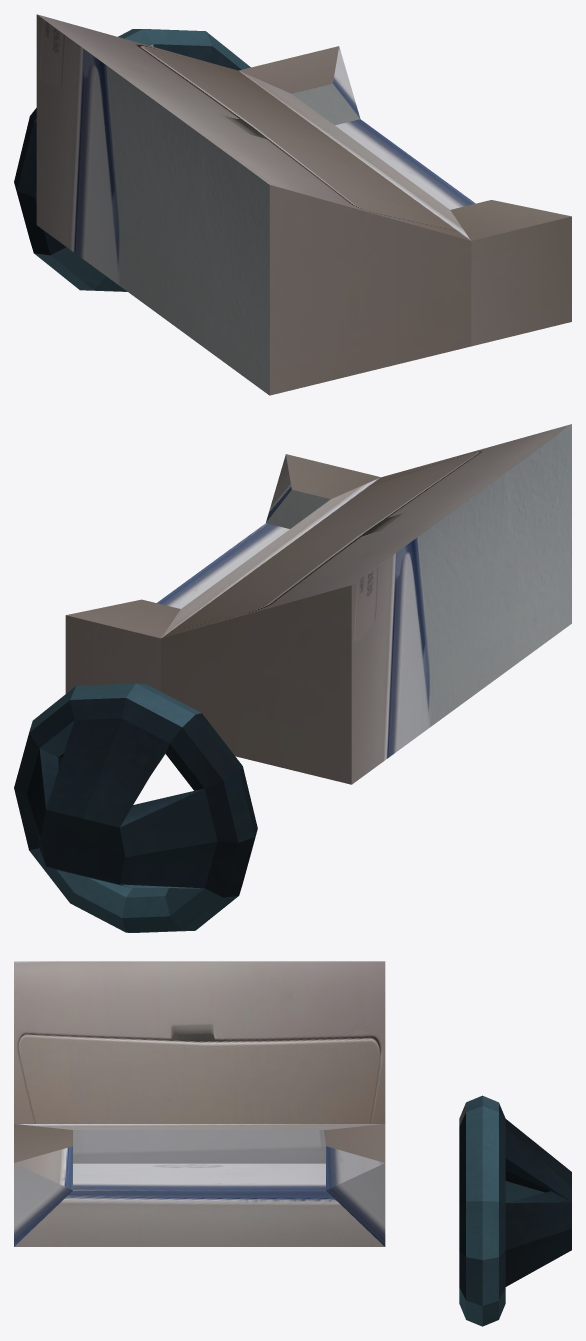
Rendered from KodBulan.fbx.
3 views of the same model, one above another, from view 1: azimuth 30°, elevation 25°; view 2: azimuth 150°, elevation 25°; view 3: azimuth 270°, elevation 25° (orthographic). The views are drawn at different scales.
Visible parts, largest first — view 1: Cube, Torus; view 2: Cube, Torus; view 3: Cube, Torus.
Part boxes in pixels (bbox=[...]): Cube: bbox=[36, 14, 571, 395]; Torus: bbox=[14, 29, 250, 291]; Cube: bbox=[65, 424, 571, 784]; Torus: bbox=[14, 683, 257, 932]; Cube: bbox=[14, 961, 385, 1246]; Torus: bbox=[459, 1095, 571, 1326].
Bounding box in the file's own units: 300 × 345 × 601.
